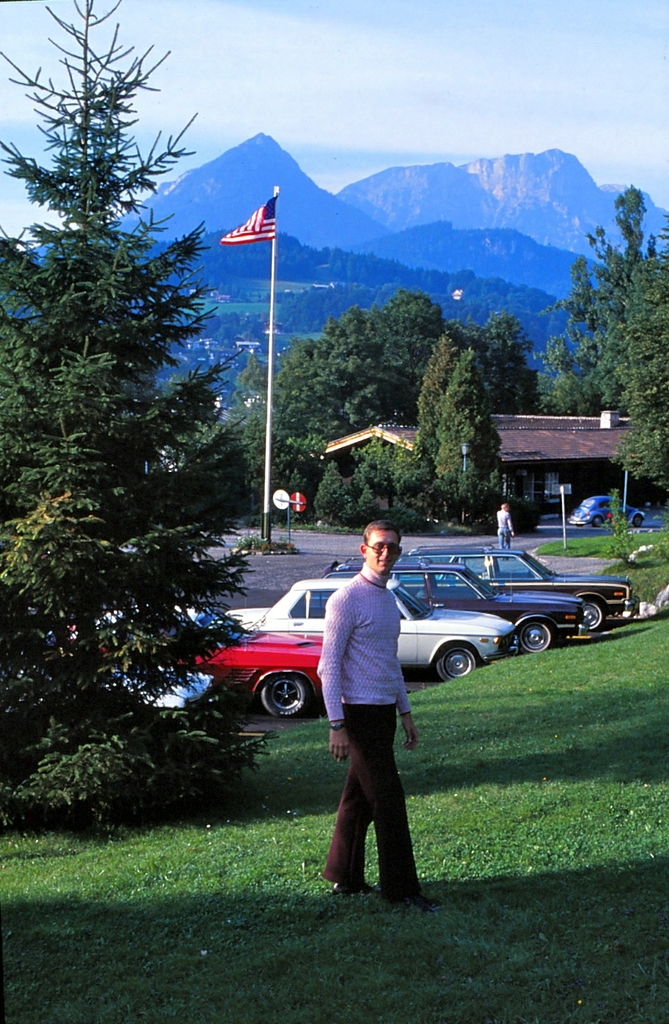Car: (92, 539, 642, 721), (565, 490, 649, 528)
